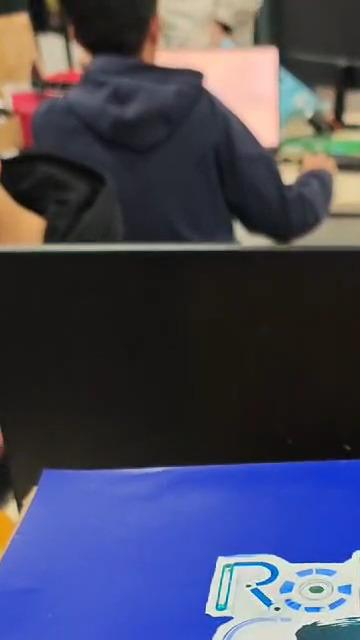B_R1: (12, 533, 360, 640)
